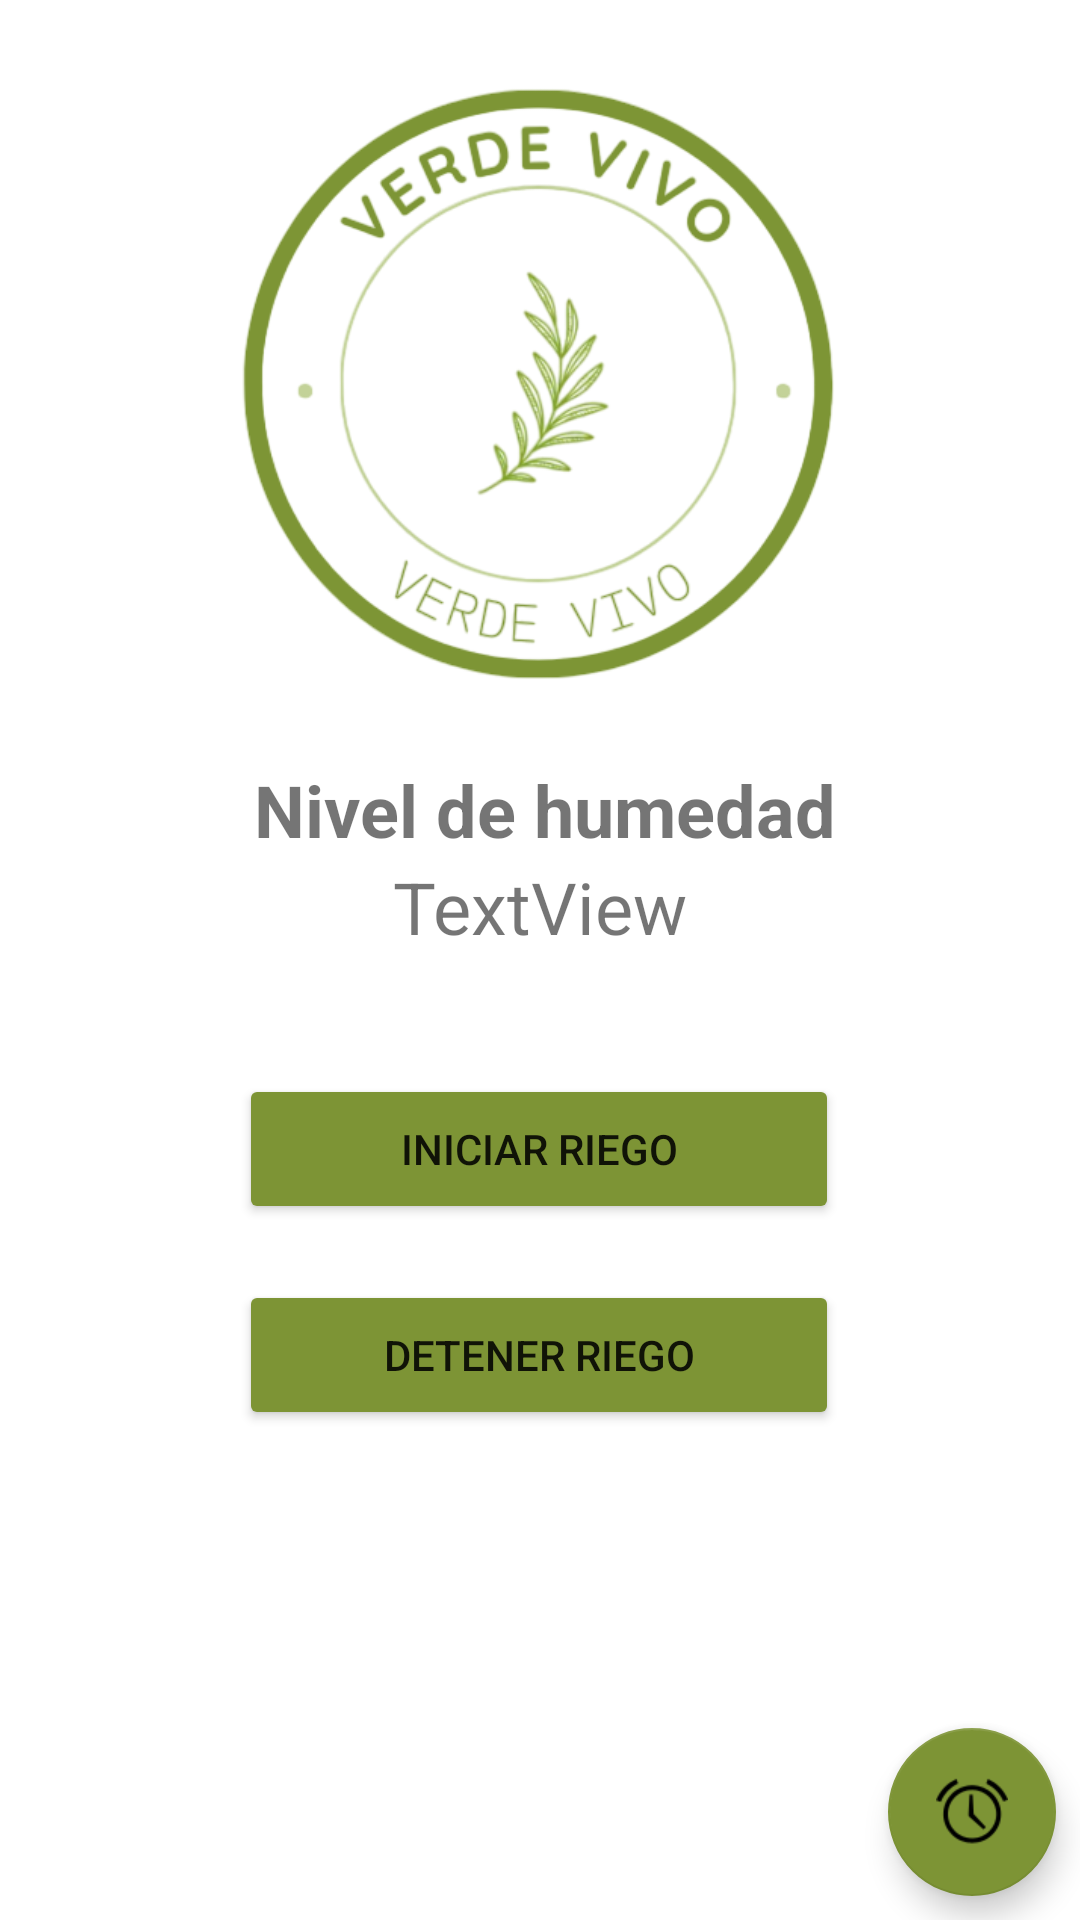

Icons on this 1080px x 1920px Android screen, each with its box as (x1, y1, x2, y2):
lock idle alarm: (888, 1728, 1056, 1896)
